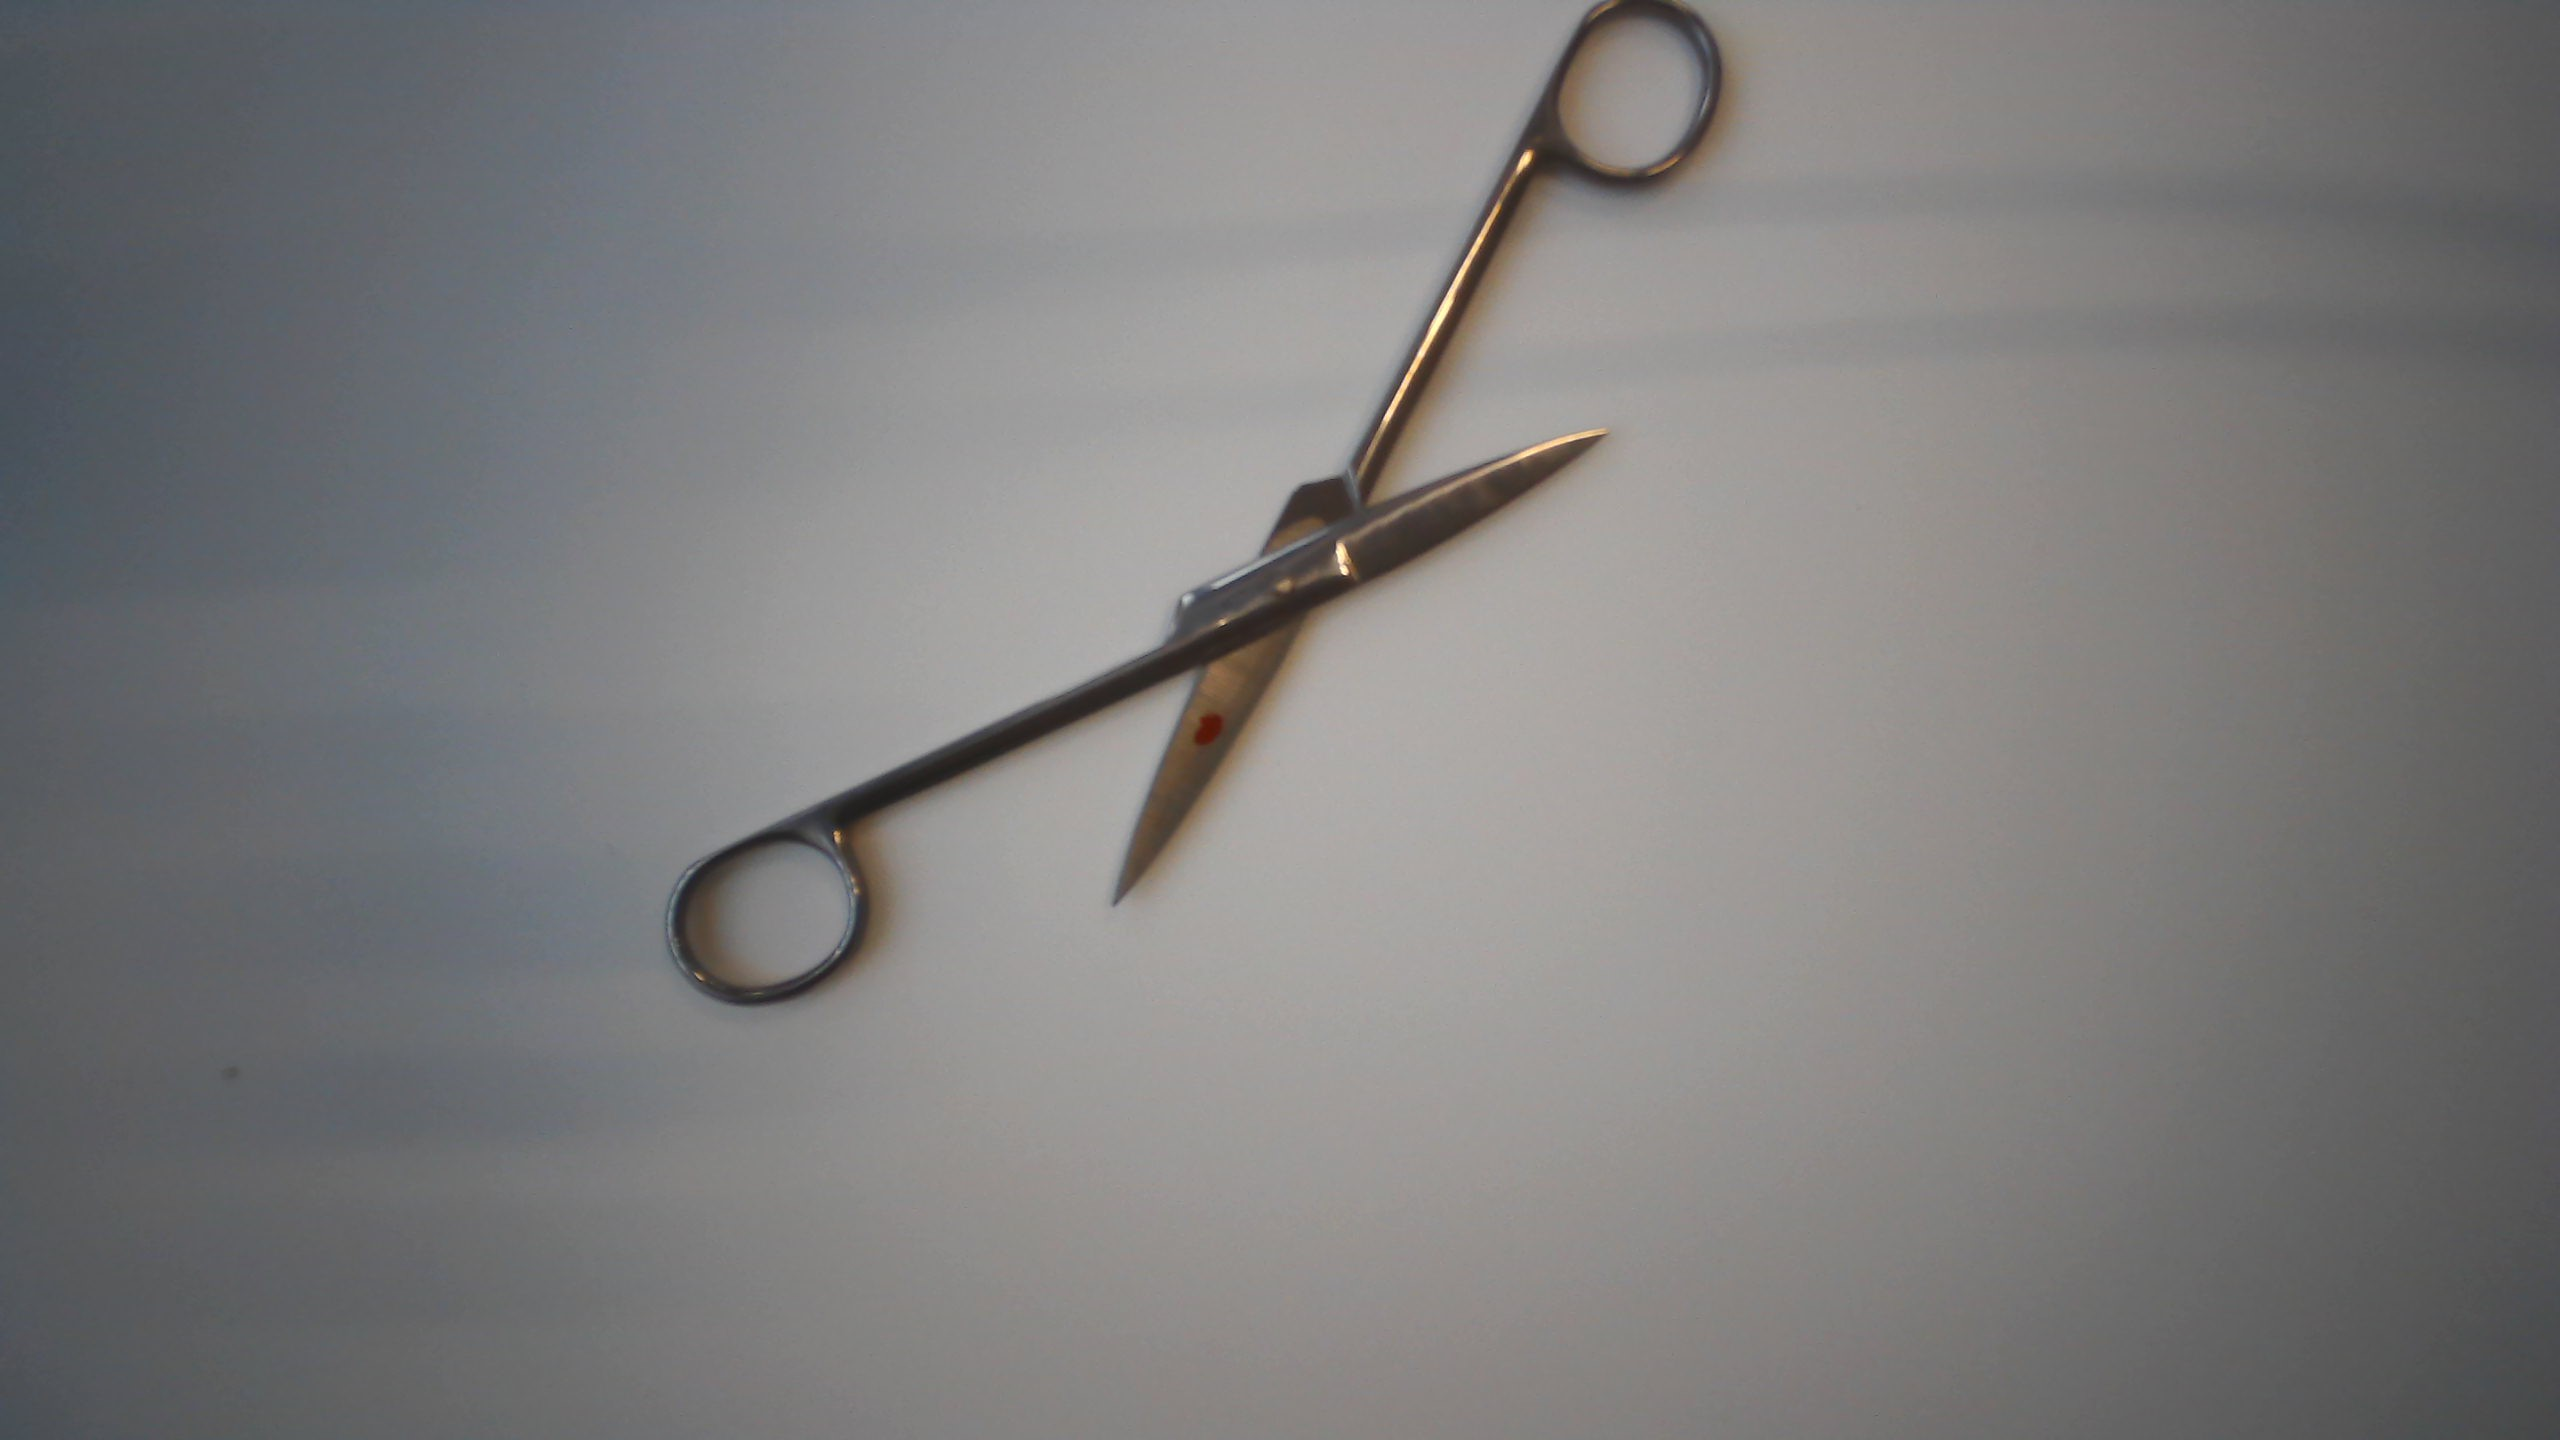Stain: (1183, 710, 1236, 758)
